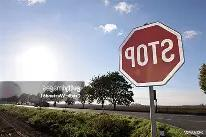Stop: (122, 25, 180, 84)
